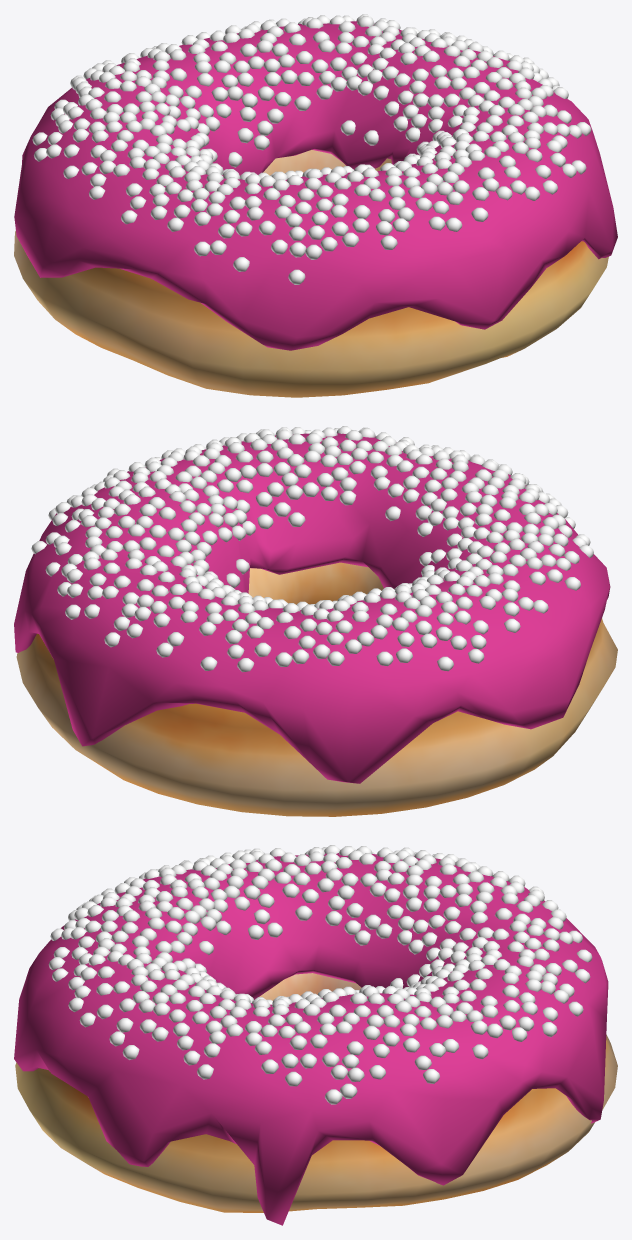
The picture shows the model from 3 angles, top to bottom: view 1: azimuth 30°, elevation 25°; view 2: azimuth 150°, elevation 25°; view 3: azimuth 270°, elevation 25°; orthographic projection.
Parts seen in each view (by area): view 1: Torus.002, Torus.001; view 2: Torus.002, Torus.001; view 3: Torus.002, Torus.001.
Part boxes in pixels (bbox=[...]): Torus.002: bbox=[14, 14, 617, 350]; Torus.001: bbox=[14, 149, 608, 397]; Torus.002: bbox=[14, 426, 610, 783]; Torus.001: bbox=[16, 562, 617, 816]; Torus.002: bbox=[14, 845, 608, 1225]; Torus.001: bbox=[15, 973, 617, 1212].
Size of the model in its own units: 2.46 by 0.907 by 2.42.
3 materials, 1 textured.
